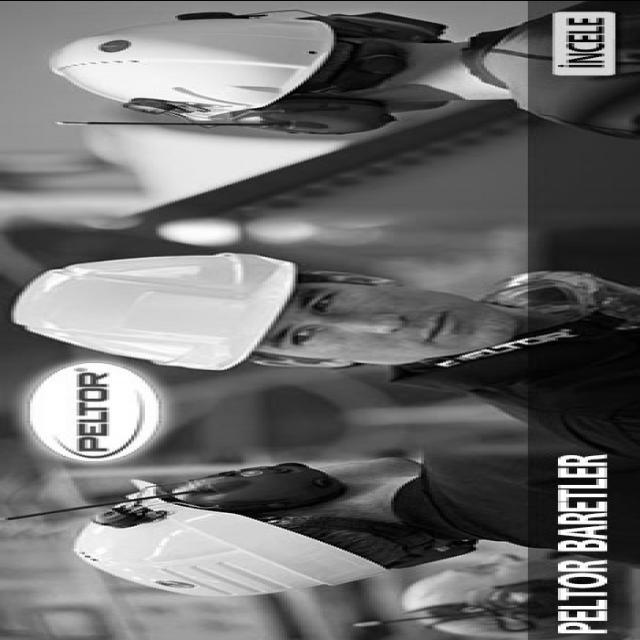safety_helmet: (49, 14, 342, 120), (77, 496, 388, 594), (14, 252, 254, 370)
